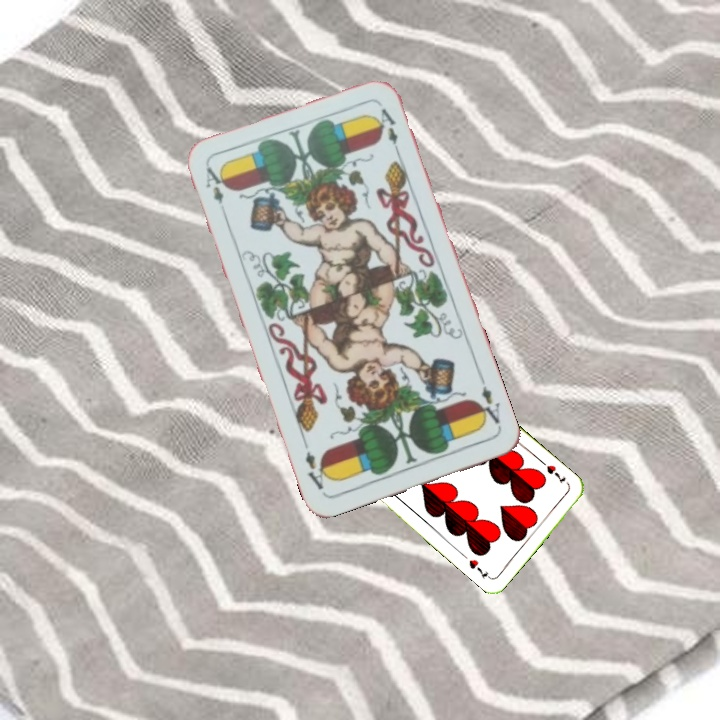EA: (201, 162, 230, 219), (472, 374, 503, 427)
H7: (543, 461, 568, 486)
